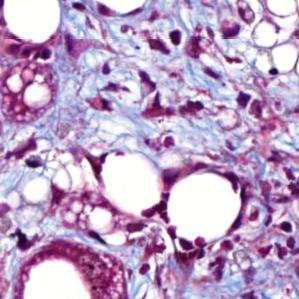steatosis: (167, 170, 244, 244)
